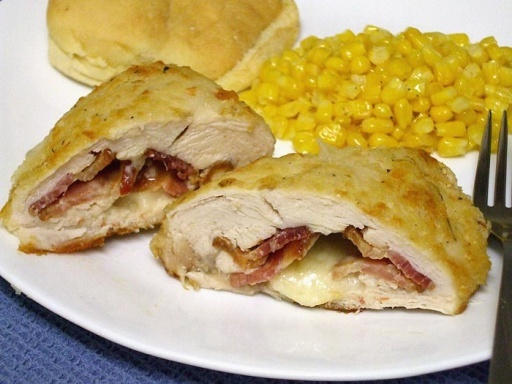background: (0, 0, 410, 189)
